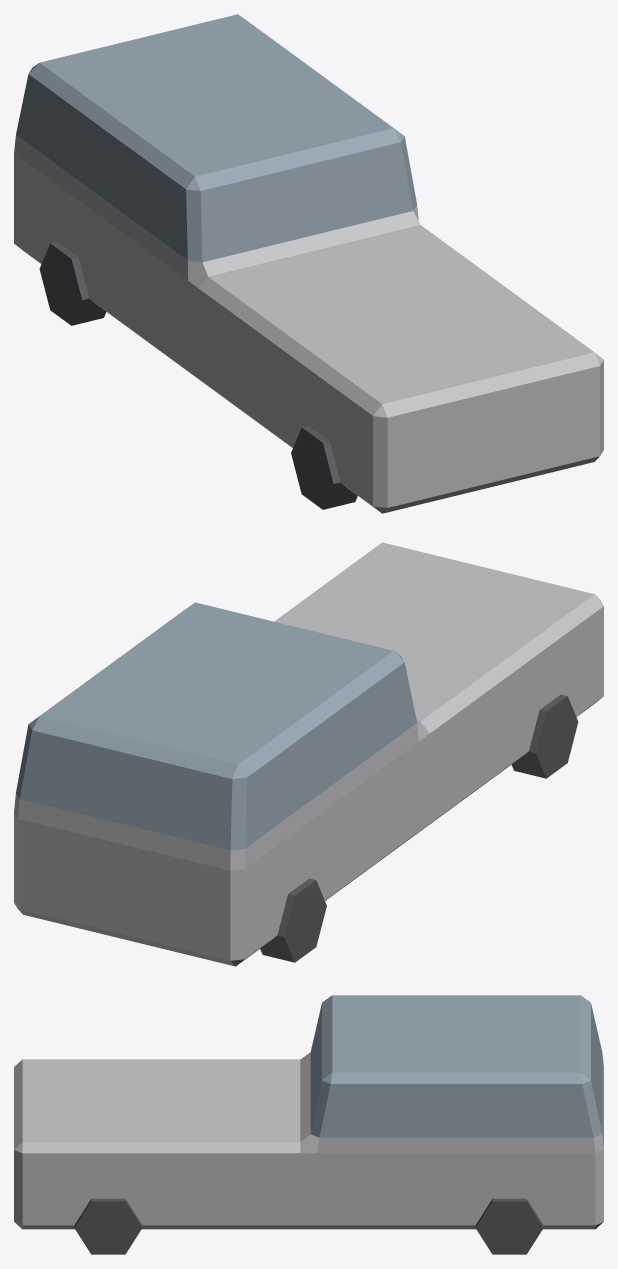
File: veh_lorry_early.glb
The picture shows the model from 3 angles, top to bottom: view 1: azimuth 30°, elevation 25°; view 2: azimuth 150°, elevation 25°; view 3: azimuth 270°, elevation 25°; orthographic projection. The views are drawn at different scales.
Visible parts, largest first — view 1: lorry; view 2: lorry; view 3: lorry.
Part boxes in pixels (box(x1,y1,x2,y2)): lorry: box(14, 14, 603, 513); lorry: box(14, 542, 603, 966); lorry: box(14, 995, 603, 1254).
Size of the model in its own units: 0.0795 by 0.0674 by 0.208.
